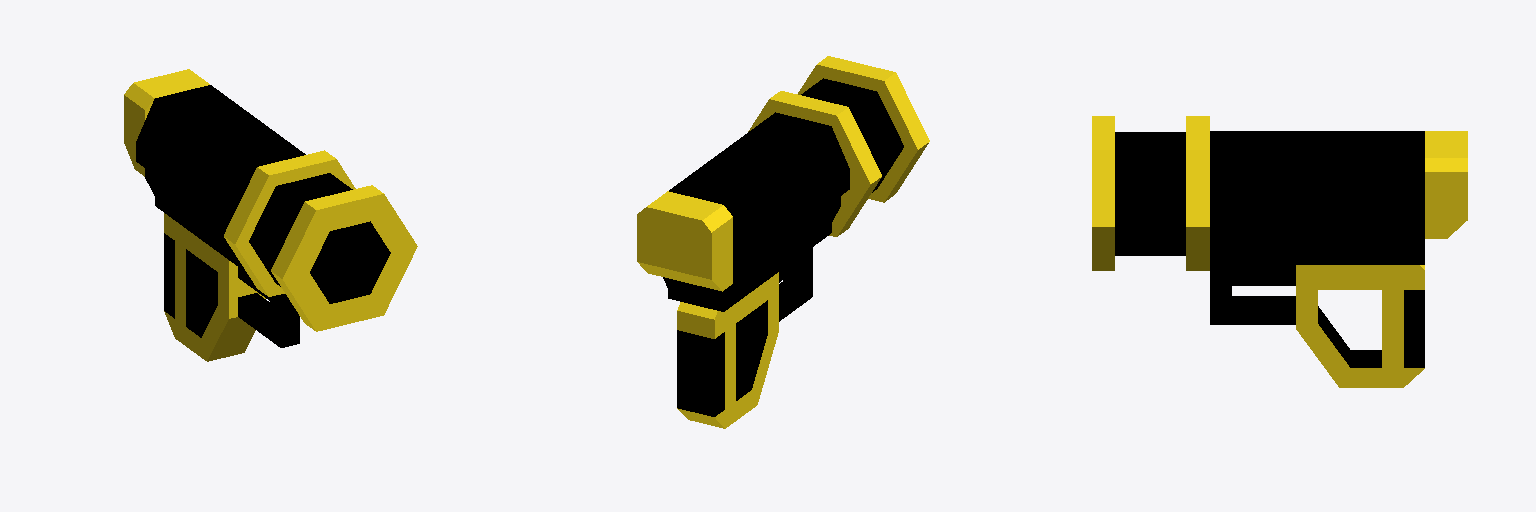
Rendered from multitool.obj.
3 views of the same model, side by side, from view 1: azimuth 30°, elevation 25°; view 2: azimuth 150°, elevation 25°; view 3: azimuth 270°, elevation 25° (orthographic).
Visible parts, largest first — view 1: mergedBlocks; view 2: mergedBlocks; view 3: mergedBlocks.
Boxes of the visible parts, x1=… form: mergedBlocks: x1=124, y1=69, x2=417, y2=361; mergedBlocks: x1=637, y1=56, x2=929, y2=428; mergedBlocks: x1=1092, y1=116, x2=1467, y2=387.
Size of the model in its own units: 0.726 by 1.26 by 1.75.